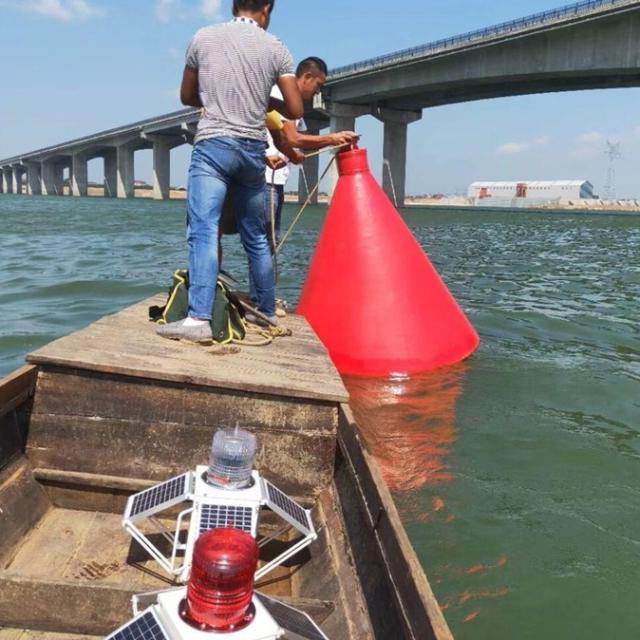buoy: (302, 137, 478, 371)
